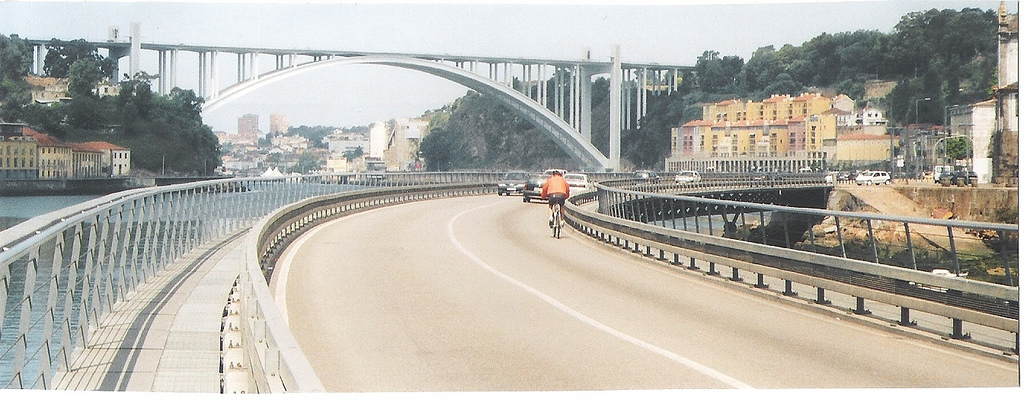arrabida: (0, 23, 705, 174)
